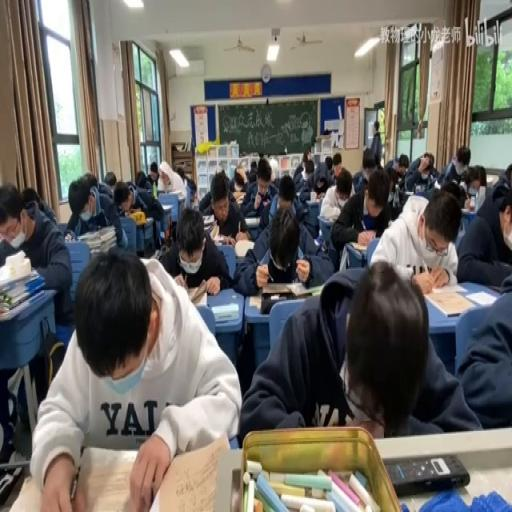calculator: (384, 452, 470, 494), (424, 288, 477, 316), (248, 289, 314, 310), (210, 300, 238, 322), (187, 286, 207, 307), (234, 238, 254, 258), (90, 244, 114, 258), (302, 283, 324, 297), (126, 209, 144, 225), (338, 244, 348, 272), (214, 233, 234, 246), (166, 188, 186, 200), (349, 240, 368, 252), (468, 189, 478, 211), (476, 186, 485, 209), (232, 189, 246, 202), (243, 214, 261, 224), (210, 222, 219, 240), (202, 213, 214, 226), (312, 234, 322, 248), (486, 175, 498, 186), (157, 186, 170, 196), (160, 203, 173, 212), (414, 186, 424, 196), (144, 216, 154, 225), (304, 198, 318, 204), (63, 232, 73, 240), (404, 189, 414, 196)
paper: (34, 245, 239, 509), (236, 254, 474, 440), (0, 180, 71, 322), (371, 182, 461, 286), (454, 270, 512, 430), (234, 200, 331, 294), (454, 169, 512, 289), (157, 202, 228, 296), (65, 174, 128, 250), (120, 174, 166, 243), (316, 165, 357, 230), (195, 166, 234, 215), (402, 149, 437, 192), (352, 148, 384, 193), (442, 144, 471, 186), (388, 168, 406, 220), (296, 156, 318, 194), (438, 179, 465, 209), (228, 161, 250, 192), (180, 174, 198, 209), (368, 121, 381, 163), (255, 158, 271, 186), (20, 186, 38, 209), (497, 162, 512, 187), (331, 150, 342, 180), (246, 158, 258, 182), (382, 155, 398, 172), (466, 168, 478, 189), (278, 192, 292, 210), (102, 171, 116, 186), (134, 171, 148, 186), (174, 165, 185, 183), (83, 171, 96, 186), (398, 154, 408, 170), (324, 155, 333, 172), (214, 163, 223, 175), (150, 165, 156, 181), (315, 181, 325, 189)
person: (0, 464, 23, 506), (486, 284, 506, 294)
